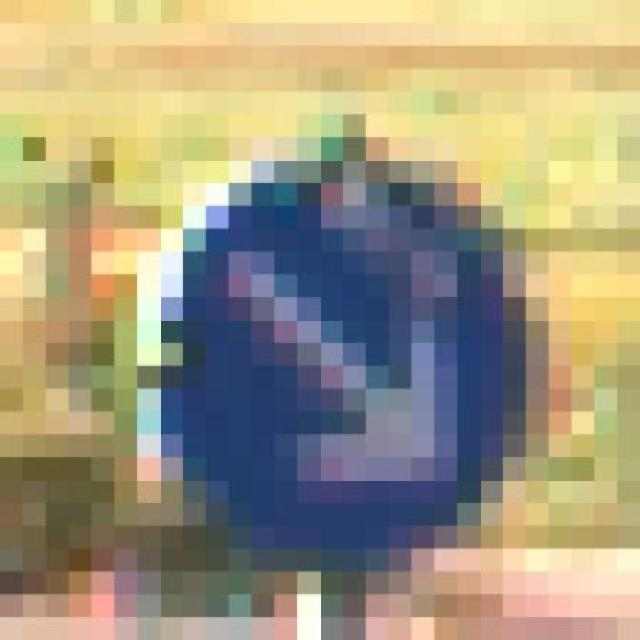Keep-Right: (160, 114, 549, 572)
